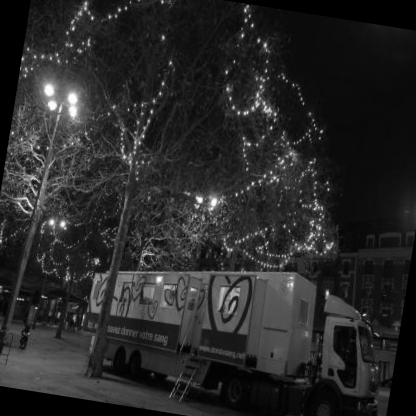truck: (49, 246, 400, 416)
